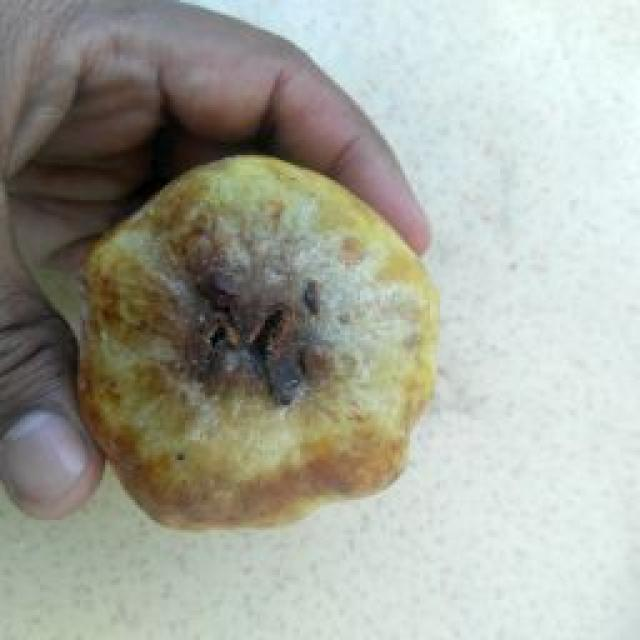Bad_Guava: (85, 156, 439, 527)
